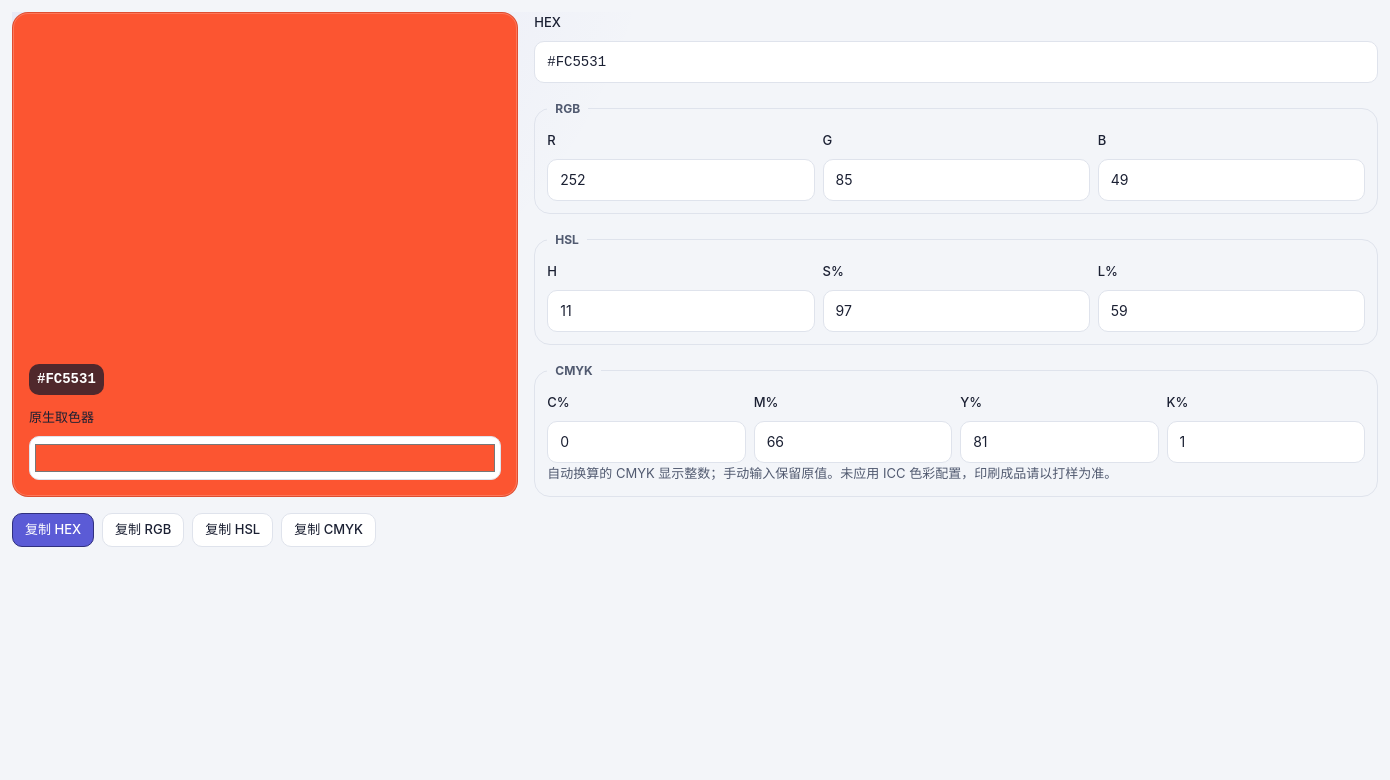
Test: ColorConverter CMYK interactions › copies the explicit CMYK representation
The width and height of the screenshot is (1390, 780).
Type "#FF0000" into the field labelled "HEX" at point(956, 62), box [534, 41, 1378, 83]
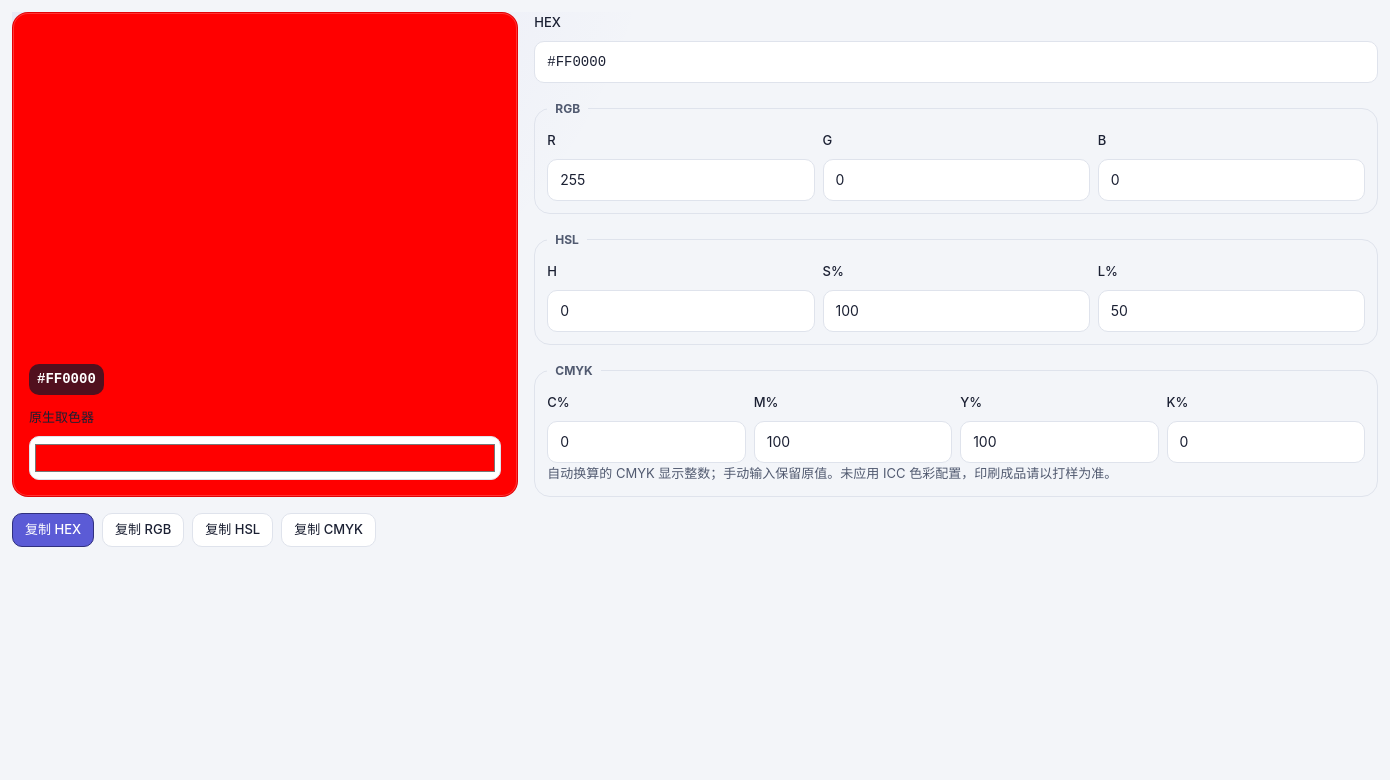
Click the button "复制 CMYK" at point(329, 530), box [281, 512, 376, 546]
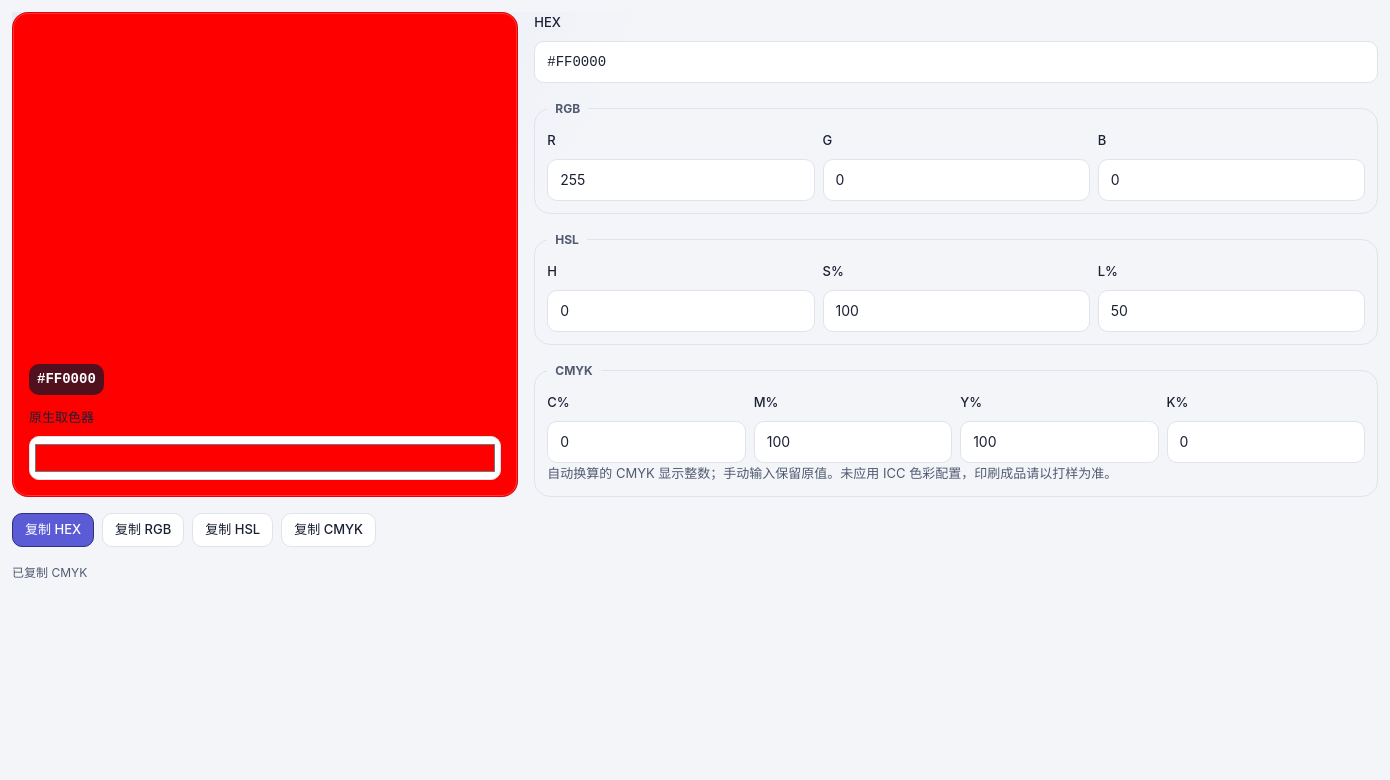
Expected: the message reads "已复制 CMYK", [12, 564, 87, 580]
